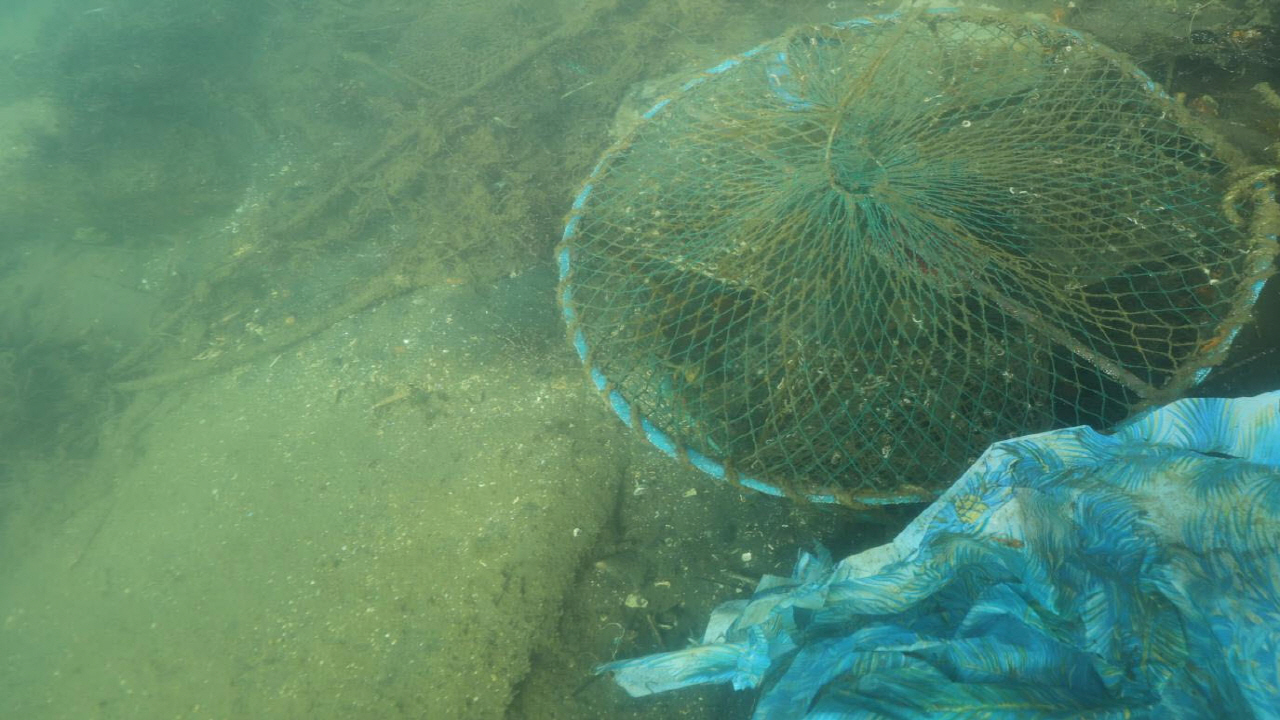circular fish trap: (557, 6, 1280, 505)
